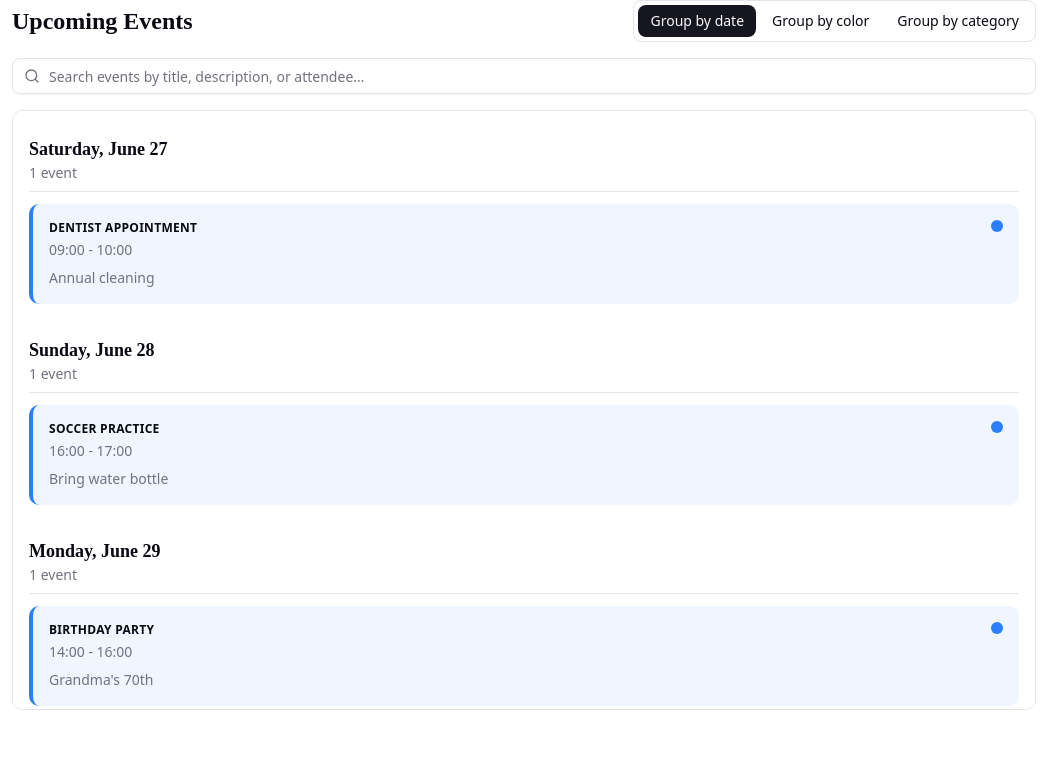
Test: AgendaCalendar › Search › filters events by title in real time as the user types
Expected: the heading "Dentist Appointment" is shown, [49,219,197,236]
Expected: the heading "Soccer Practice" is shown, [49,420,160,437]
Type "soccer" into the search field with placeholder "Search events by title, description, or attendee…" at [524, 76], box [12,58,1036,94]
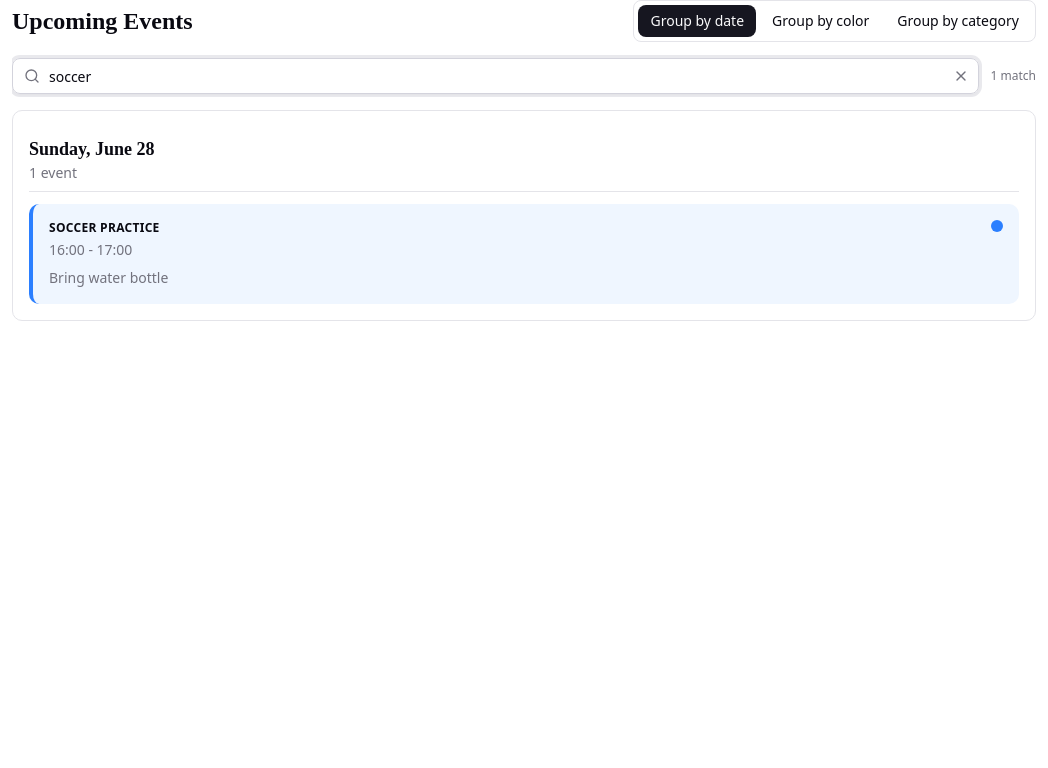
Expected: the heading "Soccer Practice" is shown, [49,219,160,236]
Now the button "Dentist Appointment" is gone
Now the button "Birthday Party" is gone
